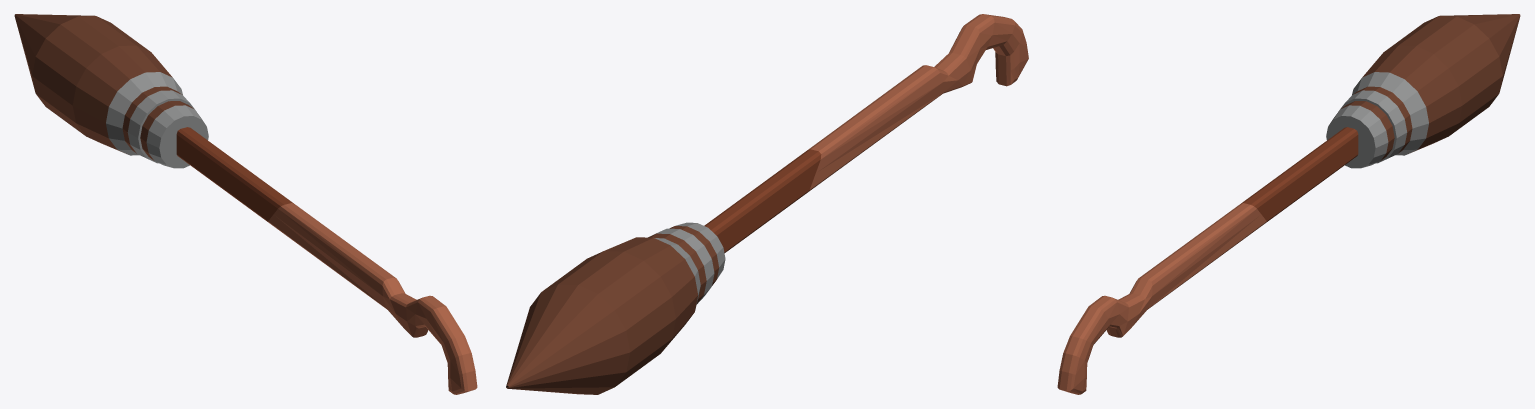
File: tinderblast.obj
3 renders of one model, left to right at view 1: azimuth 30°, elevation 25°; view 2: azimuth 150°, elevation 25°; view 3: azimuth 330°, elevation 25°, orthographic. The views are drawn at different scales.
Visible parts, largest first — view 1: Body; view 2: Body; view 3: Body.
Boxes of the visible parts, x1,y1,x2,y2 form: Body: (14, 14, 477, 394); Body: (506, 14, 1028, 394); Body: (1057, 14, 1520, 394).
Size of the model in its own units: 0.567 by 0.5771 by 4.85.
